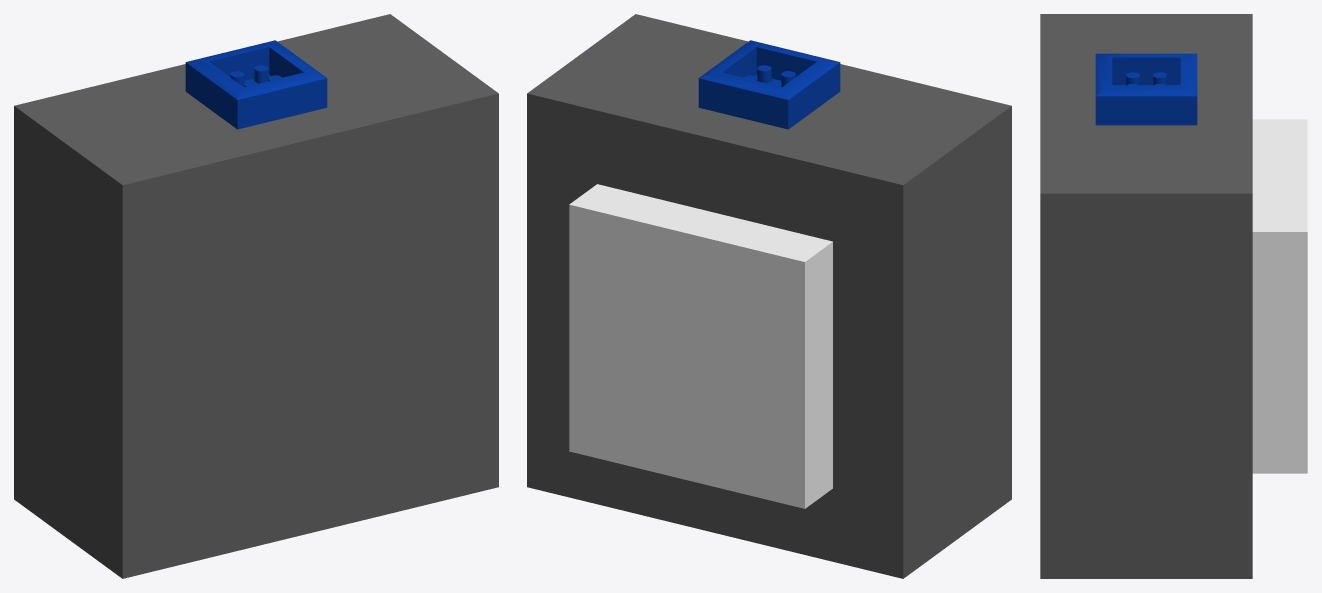
The model's file is Button.gltf.
The picture shows the model from 3 angles, left to right: view 1: azimuth 30°, elevation 25°; view 2: azimuth 150°, elevation 25°; view 3: azimuth 270°, elevation 25°; orthographic projection. The views are drawn at different scales.
Parts seen in each view (by area): view 1: Cube; view 2: Cube; view 3: Cube.
Boxes of the visible parts, x1=… form: Cube: x1=14, y1=14, x2=498, y2=578; Cube: x1=527, y1=14, x2=1011, y2=578; Cube: x1=1040, y1=14, x2=1307, y2=578.
Bounding box in the file's own units: 0.25 × 0.2706 × 0.1573.
